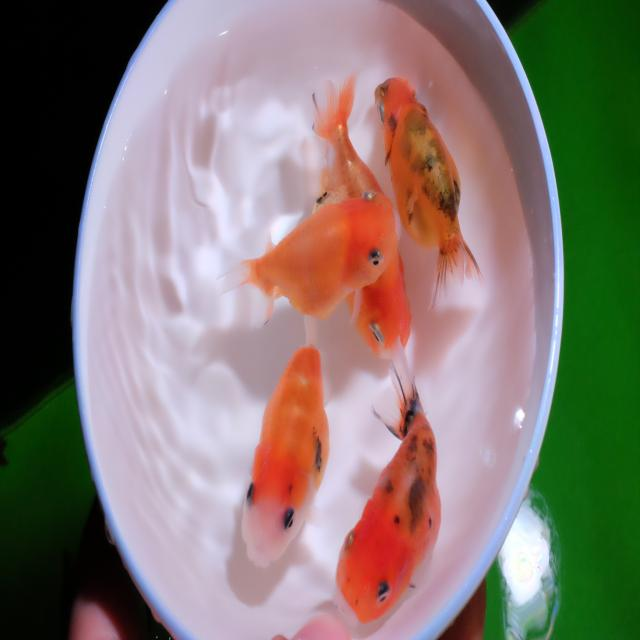Tilapia: (310, 69, 414, 364), (335, 340, 442, 624), (374, 76, 483, 310), (215, 189, 398, 327), (241, 345, 330, 568)
